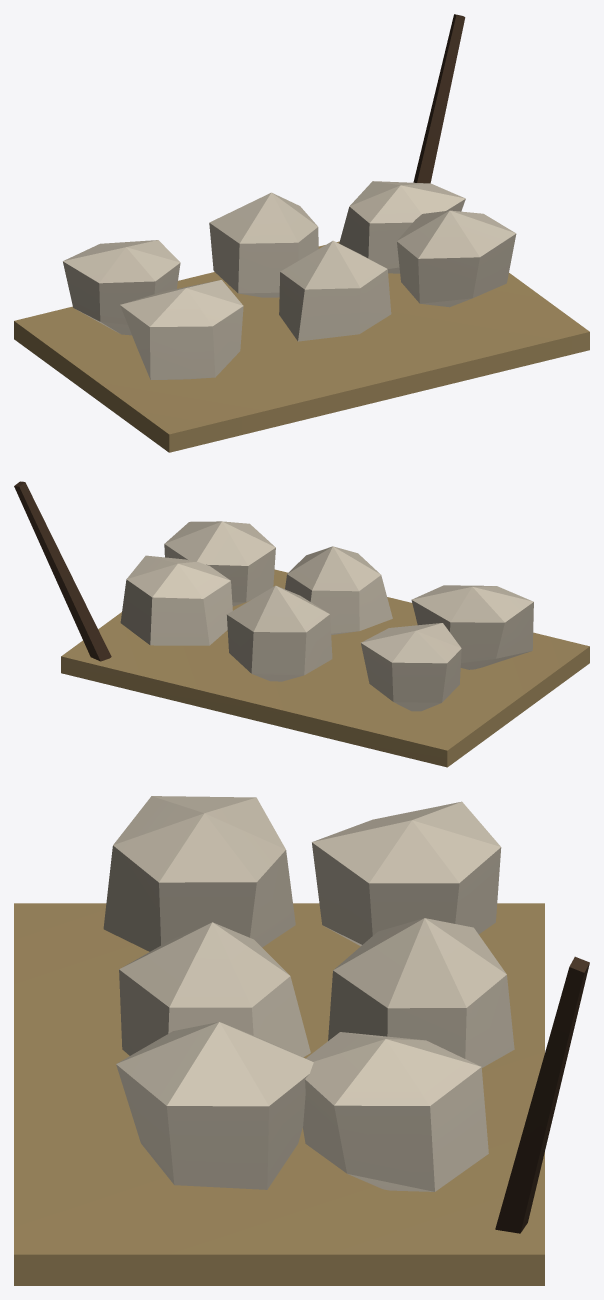
File: caral_cotton_lod0.glb
3 renders of one model, top to bottom at view 1: azimuth 30°, elevation 25°; view 2: azimuth 150°, elevation 25°; view 3: azimuth 270°, elevation 25°, orthographic. The views are drawn at different scales.
Visible parts, largest first — view 1: GEO-Props_cotton_LOD0; view 2: GEO-Props_cotton_LOD0; view 3: GEO-Props_cotton_LOD0.
Part boxes in pixels (x1,y1,x2,y2): GEO-Props_cotton_LOD0: (14, 14, 589, 452); GEO-Props_cotton_LOD0: (14, 481, 589, 767); GEO-Props_cotton_LOD0: (14, 796, 589, 1285).
Size of the model in its own units: 0.7882 by 0.339 by 0.4989.
